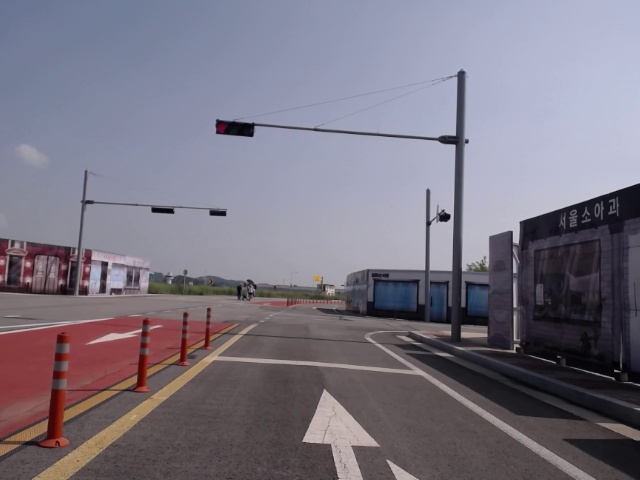red_3: (216, 121, 254, 137)
